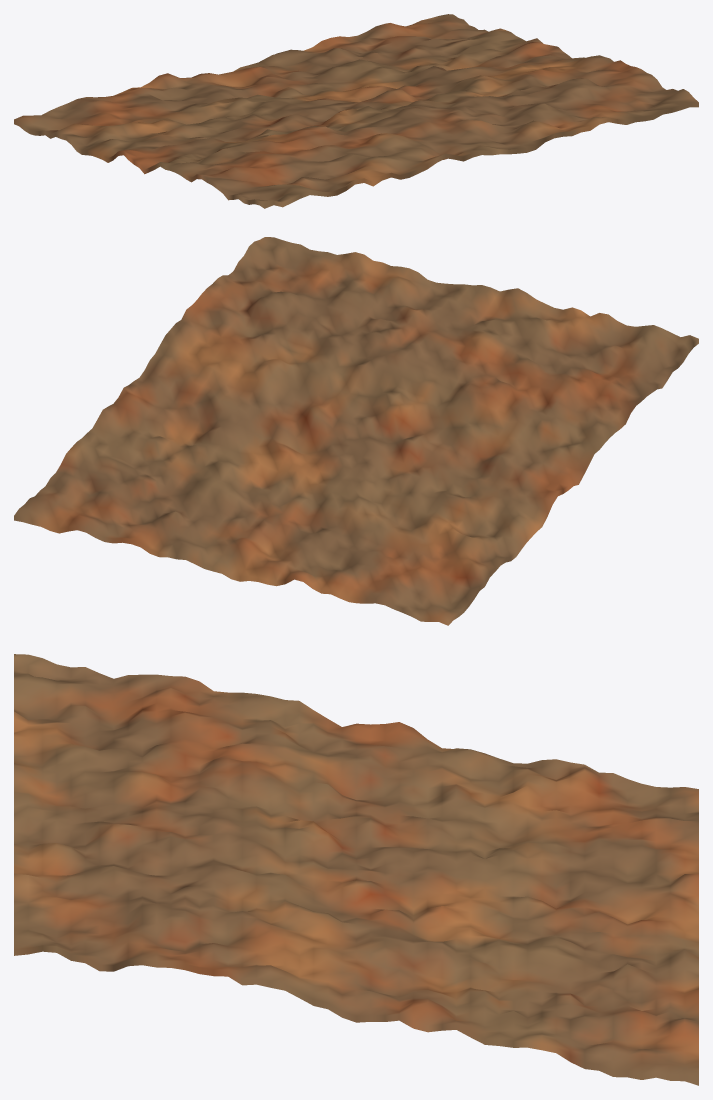
File: terrain-153.glb
3 views of the same model, one above another, from view 1: azimuth 30°, elevation 25°; view 2: azimuth 150°, elevation 25°; view 3: azimuth 270°, elevation 25° (orthographic). The views are drawn at different scales.
Parts seen in each view (by area): view 1: terrain-153; view 2: terrain-153; view 3: terrain-153.
Part boxes in pixels (x1,y1,x2,y2): terrain-153: (14,14,698,208); terrain-153: (14,237,698,625); terrain-153: (14,654,698,1085).
Bounding box in the file's own units: 384 × 98.63 × 384.
